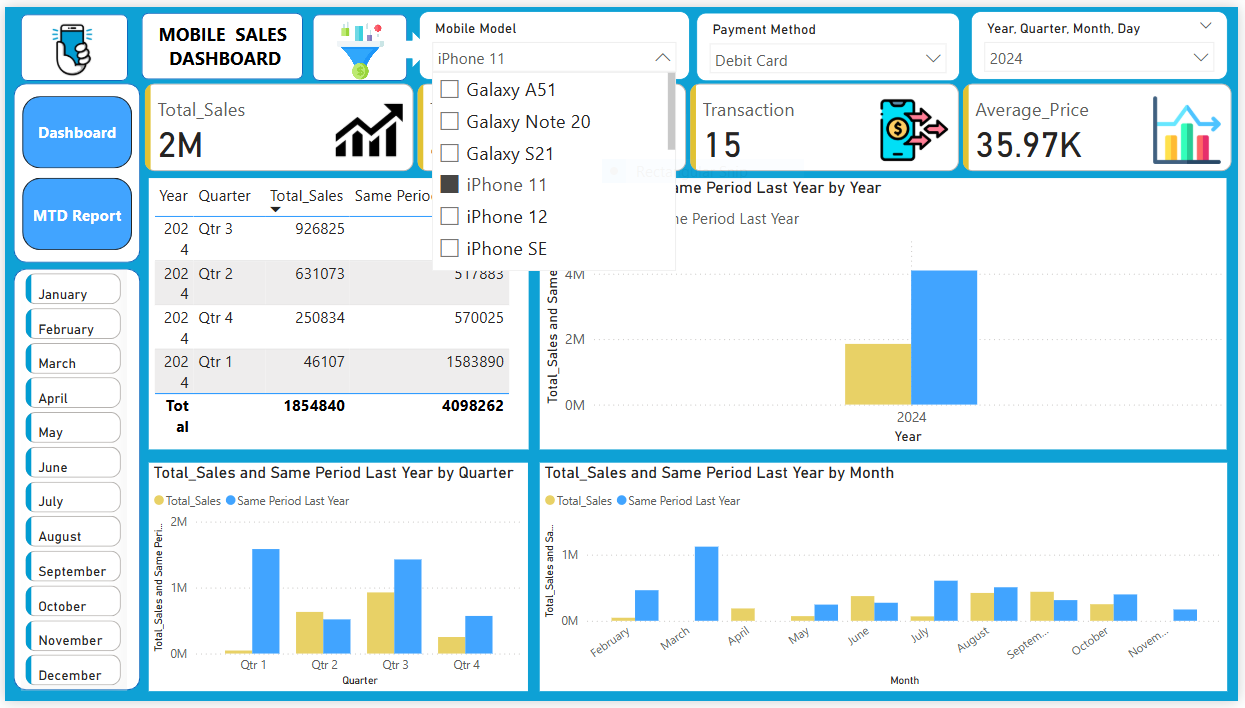

The page's visual inventory and layout, read from the dashboard file:
{"tool":"powerbi","page":{"name":"Same Period Last Year","canvas":[1280,720],"ordinal":2},"visuals":[{"type":"shape","box":[15.9,7.2,111.4,69.5],"z":0},{"type":"image","box":[23.2,4.3,91.2,79.6],"z":1000},{"type":"shape","box":[8.7,79.6,131.7,186.7],"z":2000},{"type":"cardVisual","fields":{"Data":["Mobile_Sales_Data.Total_Sales","Mobile_Sales_Data.Total_Quantity","Mobile_Sales_Data.Transaction","Mobile_Sales_Data.Average_Price"]},"box":[140.4,75.3,1138.9,101.3],"z":3000},{"type":"slicer","fields":{"Values":["Mobile_Sales_Data.Mobile Model"]},"box":[429.8,4.3,280.8,70.9],"z":4000},{"type":"slicer","fields":{"Values":["Mobile_Sales_Data.Payment Method"]},"box":[717.8,5.8,273.5,70.9],"z":5000},{"type":"slicer","fields":{"Values":["Custom_Calendar.Date.Variation.Date Hierarchy.Year","Custom_Calendar.Date.Variation.Date Hierarchy.Quarter","Custom_Calendar.Date.Variation.Date Hierarchy.Month","Custom_Calendar.Date.Variation.Date Hierarchy.Day"]},"box":[1002.9,4.3,266.3,70.9],"z":6000},{"type":"shape","box":[319.8,7.2,98.4,69.5],"z":7000},{"type":"image","box":[337.2,10.1,63.7,69.5],"z":8000},{"type":"shape","box":[398,26,43.4,37.6],"z":9000},{"type":"shape","box":[141.8,5.8,167.9,69.5],"z":10000},{"type":"textbox","box":[149.1,10.1,153.4,60.8],"z":11000},{"type":"shape","box":[8.7,272.1,131.7,438.5],"z":12000},{"type":"advancedSlicerVisual","fields":{"Values":["Custom_Calendar.Date.Variation.Date Hierarchy.Month"]},"box":[15.9,272.1,110,438.5],"z":13000},{"type":"tableEx","fields":{"Values":["Custom_Calendar.Date.Variation.Date Hierarchy.Year","Custom_Calendar.Date.Variation.Date Hierarchy.Quarter","Mobile_Sales_Data.Total_Sales","Mobile_Sales_Data.Same Period Last Year"]},"box":[148.6,177.1,394.3,281.4],"z":14000},{"type":"clusteredColumnChart","fields":{"Category":["Custom_Calendar.Date.Variation.Date Hierarchy.Year","Custom_Calendar.Date.Variation.Date Hierarchy.Quarter"],"Y":["Mobile_Sales_Data.Total_Sales","Mobile_Sales_Data.Same Period Last Year"]},"box":[555.7,177.1,712.9,281.4],"z":15000},{"type":"clusteredColumnChart","fields":{"Y":["Mobile_Sales_Data.Total_Sales","Mobile_Sales_Data.Same Period Last Year"],"Category":["Custom_Calendar.Date.Variation.Date Hierarchy.Month"]},"box":[555.2,473.1,713.4,237.3],"z":16000},{"type":"clusteredColumnChart","fields":{"Category":["Custom_Calendar.Date.Variation.Date Hierarchy.Year","Custom_Calendar.Date.Variation.Date Hierarchy.Quarter"],"Y":["Mobile_Sales_Data.Total_Sales","Mobile_Sales_Data.Same Period Last Year"]},"box":[149.3,473.1,394,237.3],"z":17000},{"type":"pageNavigator","box":[17.9,92.5,114.9,161.2],"z":18000}]}

Visuals, with their boxes in screenshot pixels (x1, y1, x2, y2), scaled from the page's 1280x720 canvas onto the 1245x708 screenshot:
shape: rect(15, 7, 124, 75)
image: rect(23, 4, 111, 83)
shape: rect(8, 78, 137, 262)
cardVisual - Mobile_Sales_Data.Total_Sales x Mobile_Sales_Data.Total_Quantity: rect(137, 74, 1244, 174)
slicer - Mobile_Sales_Data.Mobile Model: rect(418, 4, 691, 74)
slicer - Mobile_Sales_Data.Payment Method: rect(698, 6, 964, 75)
slicer - Custom_Calendar.Date.Variation.Date Hierarchy.Year x Custom_Calendar.Date.Variation.Date Hierarchy.Quarter: rect(975, 4, 1234, 74)
shape: rect(311, 7, 407, 75)
image: rect(328, 10, 390, 78)
shape: rect(387, 26, 429, 63)
shape: rect(138, 6, 301, 74)
textbox: rect(145, 10, 294, 70)
shape: rect(8, 268, 137, 699)
advancedSlicerVisual - Custom_Calendar.Date.Variation.Date Hierarchy.Month: rect(15, 268, 122, 699)
tableEx - Custom_Calendar.Date.Variation.Date Hierarchy.Year x Custom_Calendar.Date.Variation.Date Hierarchy.Quarter: rect(145, 174, 528, 451)
clusteredColumnChart - Custom_Calendar.Date.Variation.Date Hierarchy.Year x Custom_Calendar.Date.Variation.Date Hierarchy.Quarter: rect(541, 174, 1234, 451)
clusteredColumnChart - Mobile_Sales_Data.Total_Sales x Mobile_Sales_Data.Same Period Last Year: rect(540, 465, 1234, 699)
clusteredColumnChart - Custom_Calendar.Date.Variation.Date Hierarchy.Year x Custom_Calendar.Date.Variation.Date Hierarchy.Quarter: rect(145, 465, 528, 699)
pageNavigator: rect(17, 91, 129, 249)
